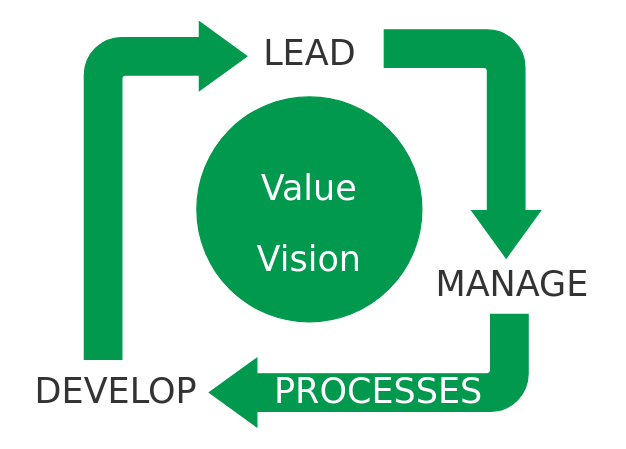
Image size: 626x449. Some labels were removed from this diagram. The centre of each missing label's shape, as x and y in pixels:
PEOPLE: pixel 165 190
TEAM: pixel 462 143
